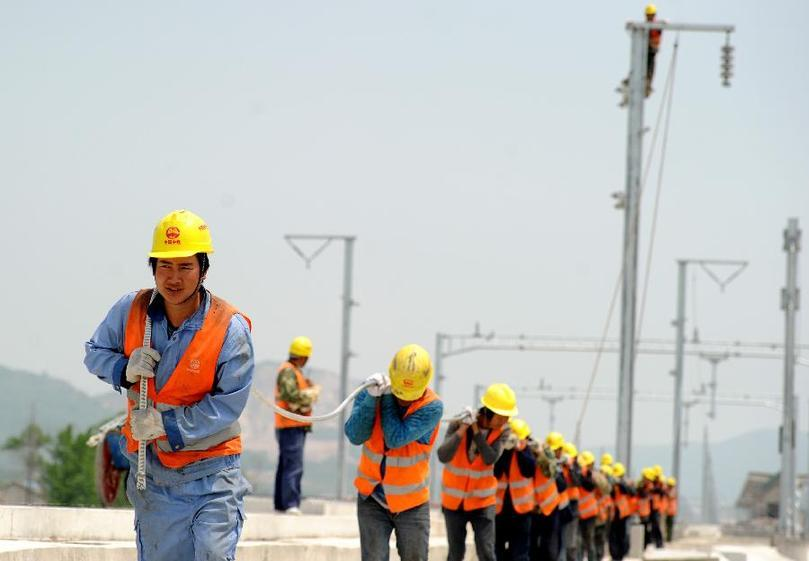helmet: (151, 211, 216, 262), (393, 346, 436, 401), (485, 383, 518, 419), (291, 337, 313, 360), (567, 441, 583, 465), (517, 420, 535, 440), (612, 464, 629, 485), (581, 452, 599, 469), (549, 433, 565, 451), (645, 469, 662, 484), (663, 478, 678, 494), (599, 450, 612, 468), (644, 4, 658, 18)
